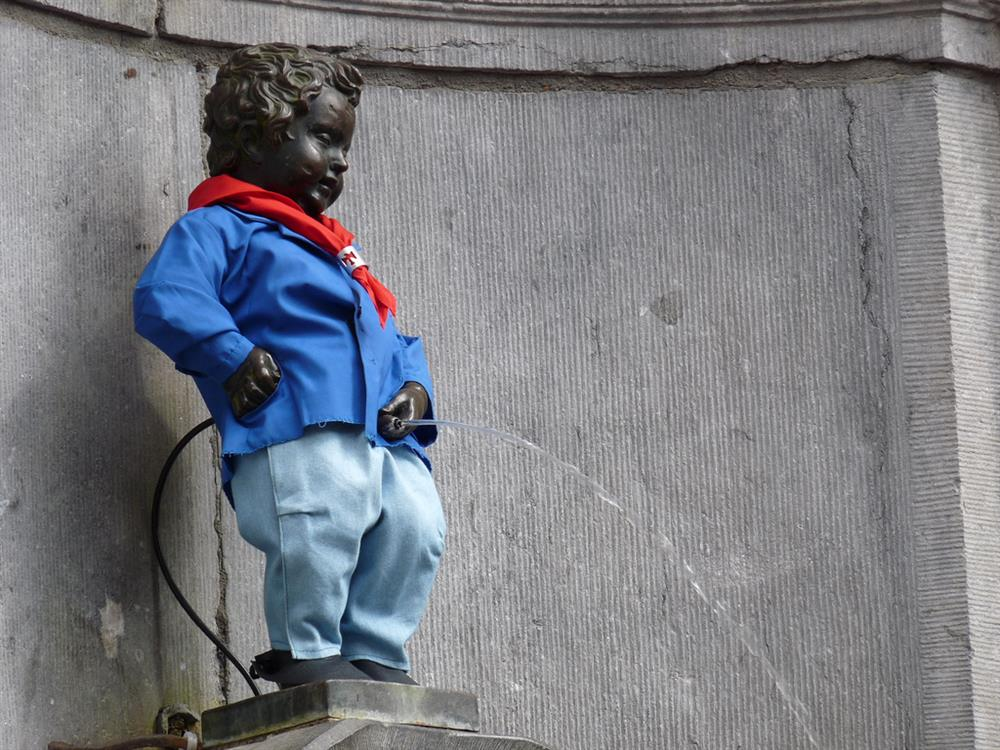Manneken_Pis: (134, 42, 457, 684)
